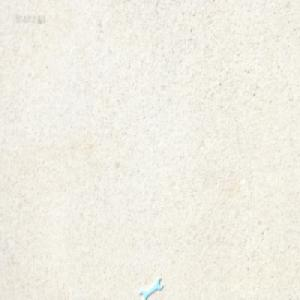Wrench: (139, 274, 163, 298)
